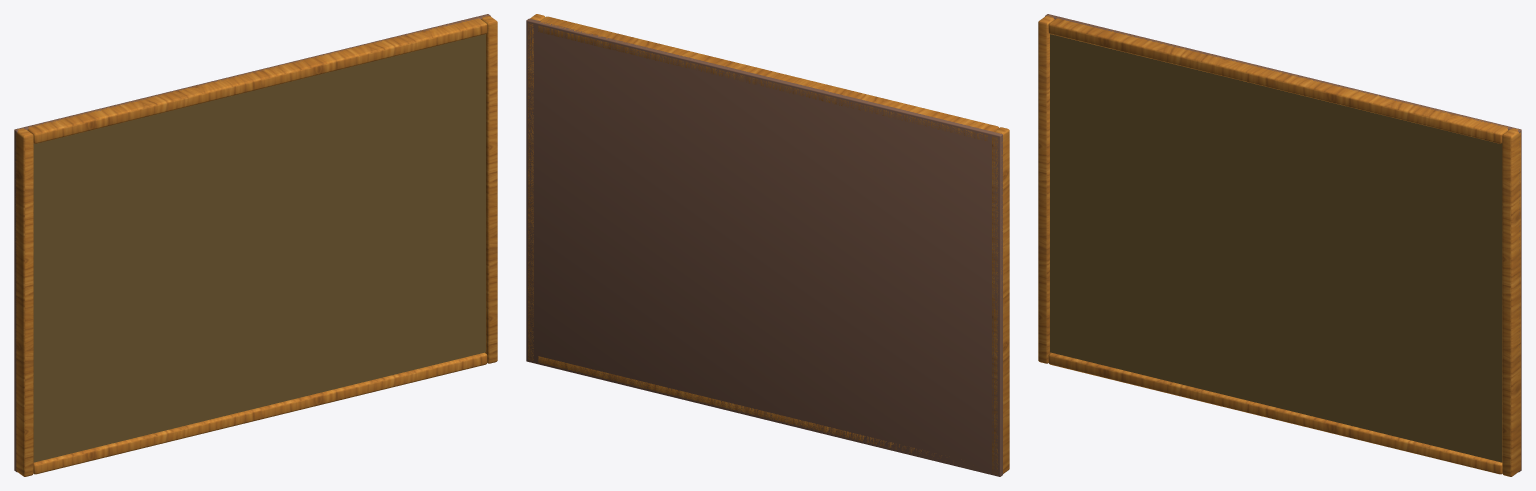
File: valley-panorama.glb
3 renders of one model, left to right at view 1: azimuth 30°, elevation 25°; view 2: azimuth 150°, elevation 25°; view 3: azimuth 330°, elevation 25°, orthographic.
Visible parts, largest first — view 1: valley-panorama; view 2: valley-panorama; view 3: valley-panorama.
Boxes of the visible parts, x1=… form: valley-panorama: x1=14, y1=14, x2=497, y2=476; valley-panorama: x1=526, y1=14, x2=1009, y2=476; valley-panorama: x1=1038, y1=14, x2=1521, y2=476.
Size of the model in its own units: 1.6 by 1.1 by 0.06.
3 materials, 2 textured.
